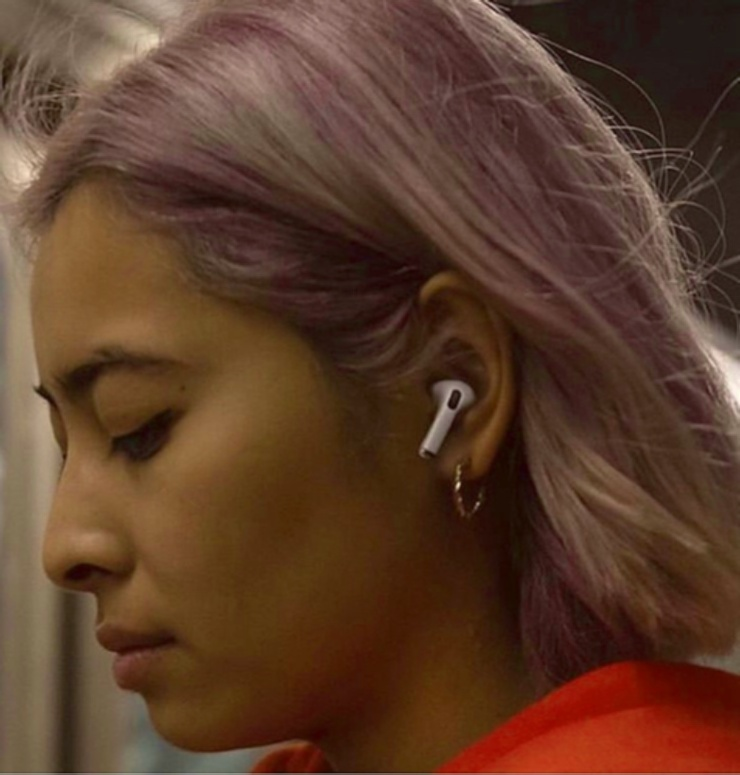earphone: (412, 269, 516, 481)
